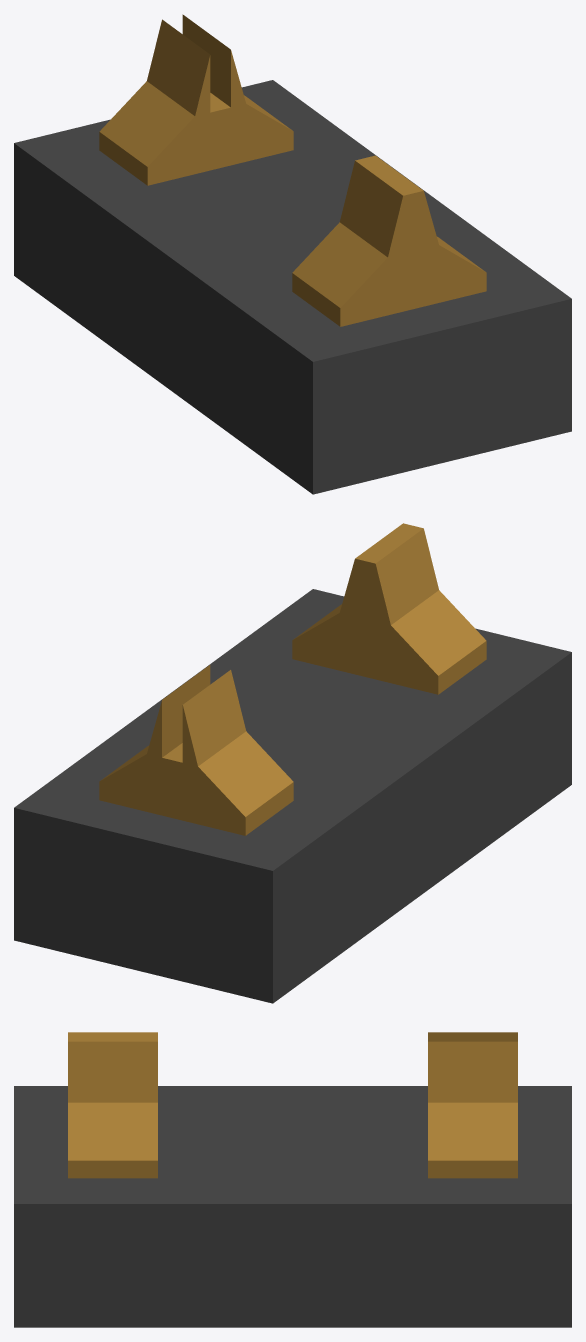
Rendered from switch_base.glb.
3 renders of one model, top to bottom at view 1: azimuth 30°, elevation 25°; view 2: azimuth 150°, elevation 25°; view 3: azimuth 270°, elevation 25°, orthographic. The views are drawn at different scales.
Visible parts, largest first — view 1: Switch; view 2: Switch; view 3: Switch.
Part boxes in pixels (x1,y1,x2,y2): Switch: (14, 14, 571, 494); Switch: (14, 523, 571, 1003); Switch: (14, 1032, 571, 1327).
Size of the model in its own units: 0.3992 by 0.3662 by 0.7985.
